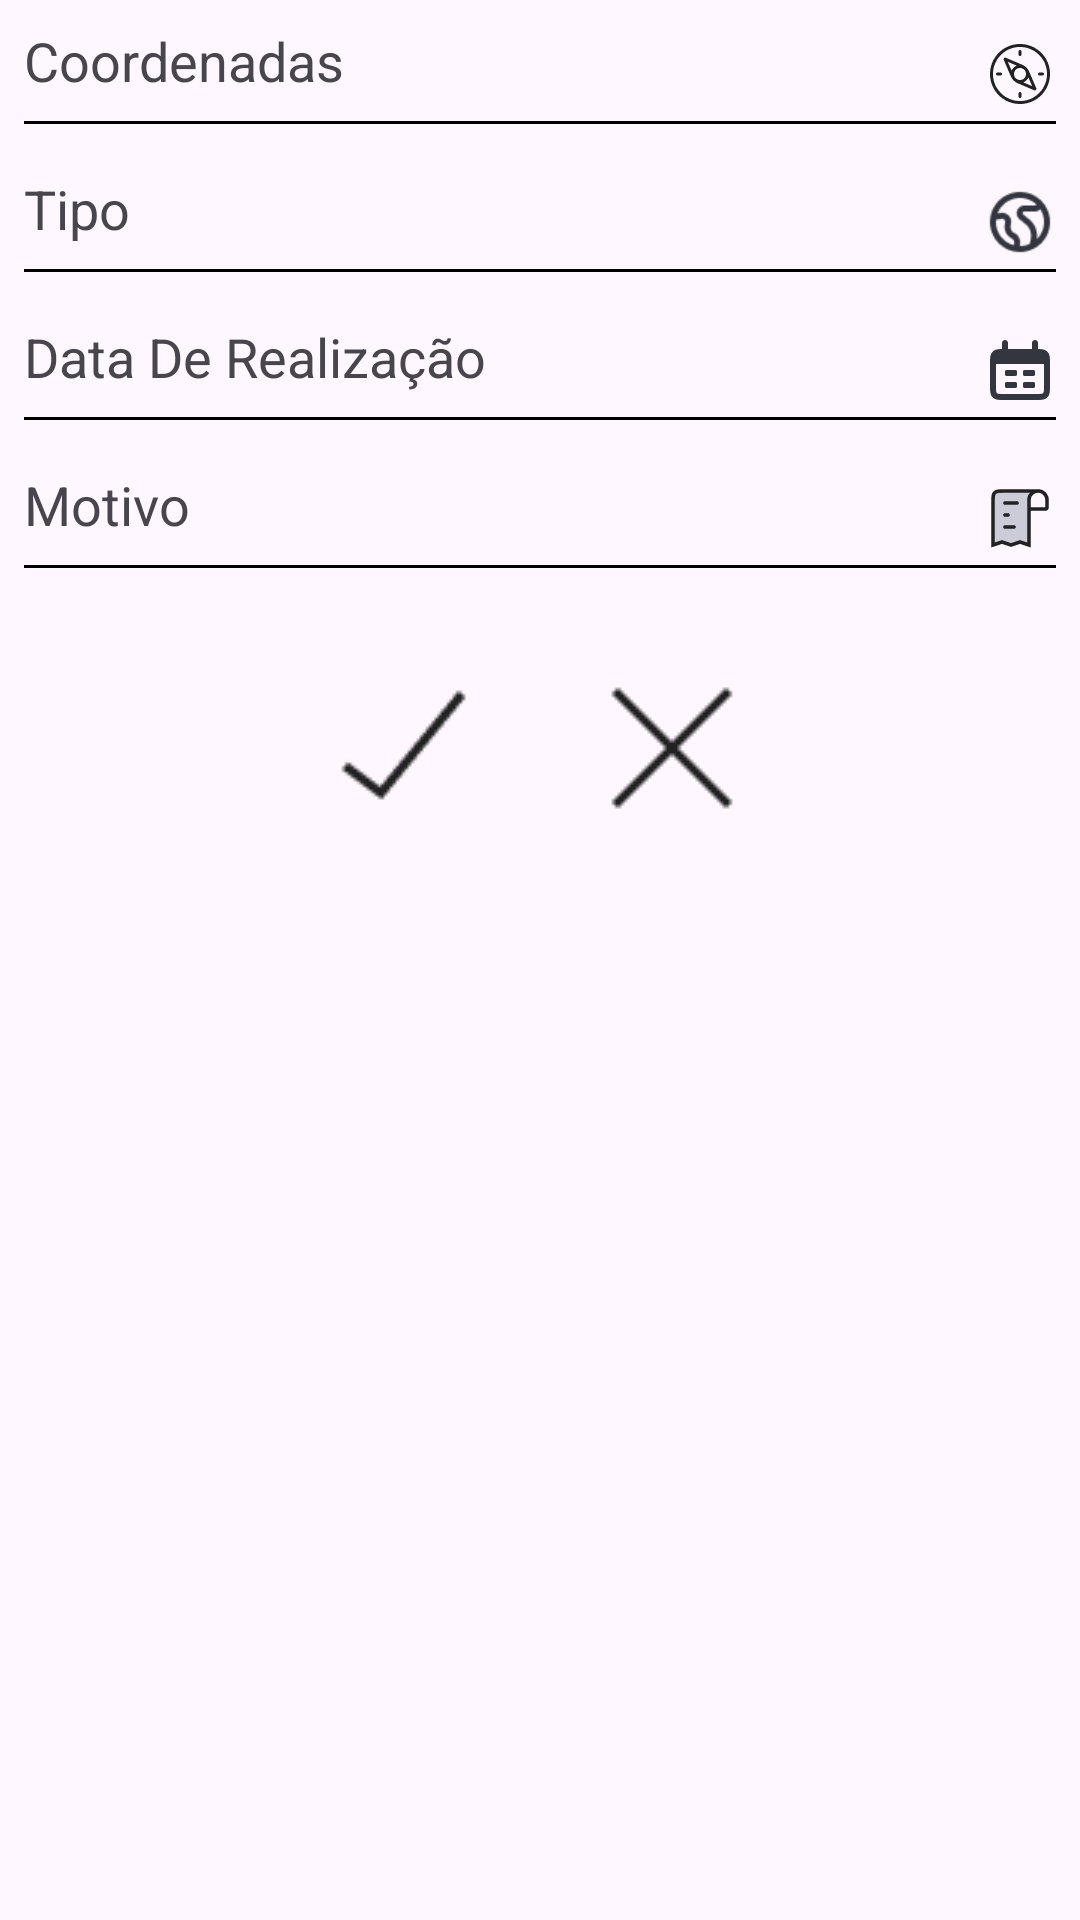

Screen size 1080×1920. Icon name, then its center in pixels as (x,y):
check: (403,745)
coordenadas: (1020,74)
cross: (672,748)
data: (1020,370)
motivo: (1020,518)
